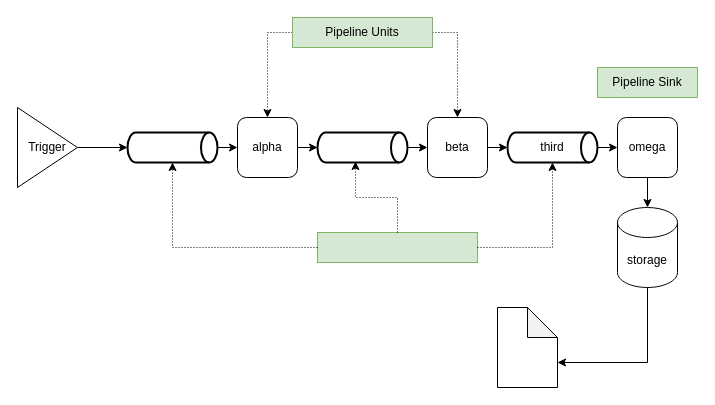
Some shapes in this 715 by 405 pixel diagram are drawn without their labels. The shapes that lost their labels are listed below. From the top down, each one's centre as x and y in pixels, then its label:
the point at 172,147: first
the point at 362,147: second
the point at 397,247: Kafka Stream Topics
the point at 527,347: report
